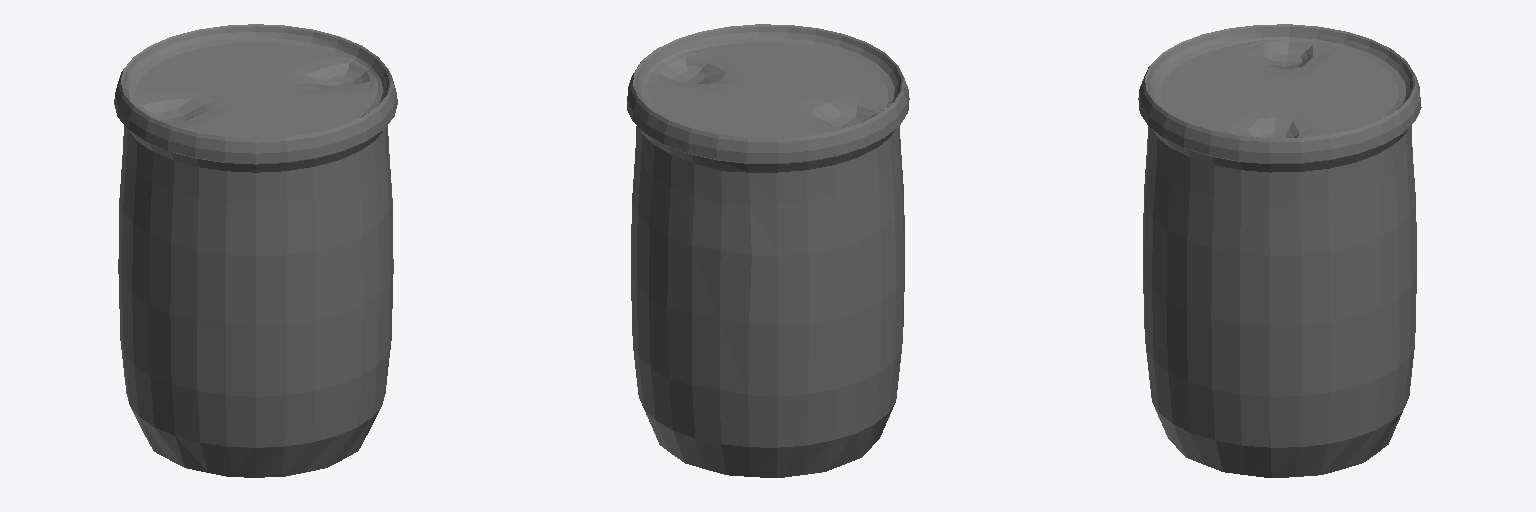
Rendered from Drum.obj.
The picture shows the model from 3 angles: view 1: azimuth 30°, elevation 25°; view 2: azimuth 150°, elevation 25°; view 3: azimuth 270°, elevation 25°; orthographic projection.
Parts seen in each view (by area): view 1: polySurface52; view 2: polySurface52; view 3: polySurface52.
Boxes of the visible parts, x1=… form: polySurface52: x1=114, y1=24, x2=397, y2=477; polySurface52: x1=627, y1=24, x2=909, y2=477; polySurface52: x1=1138, y1=24, x2=1421, y2=477.
Bounding box in the file's own units: 209 × 284 × 209.